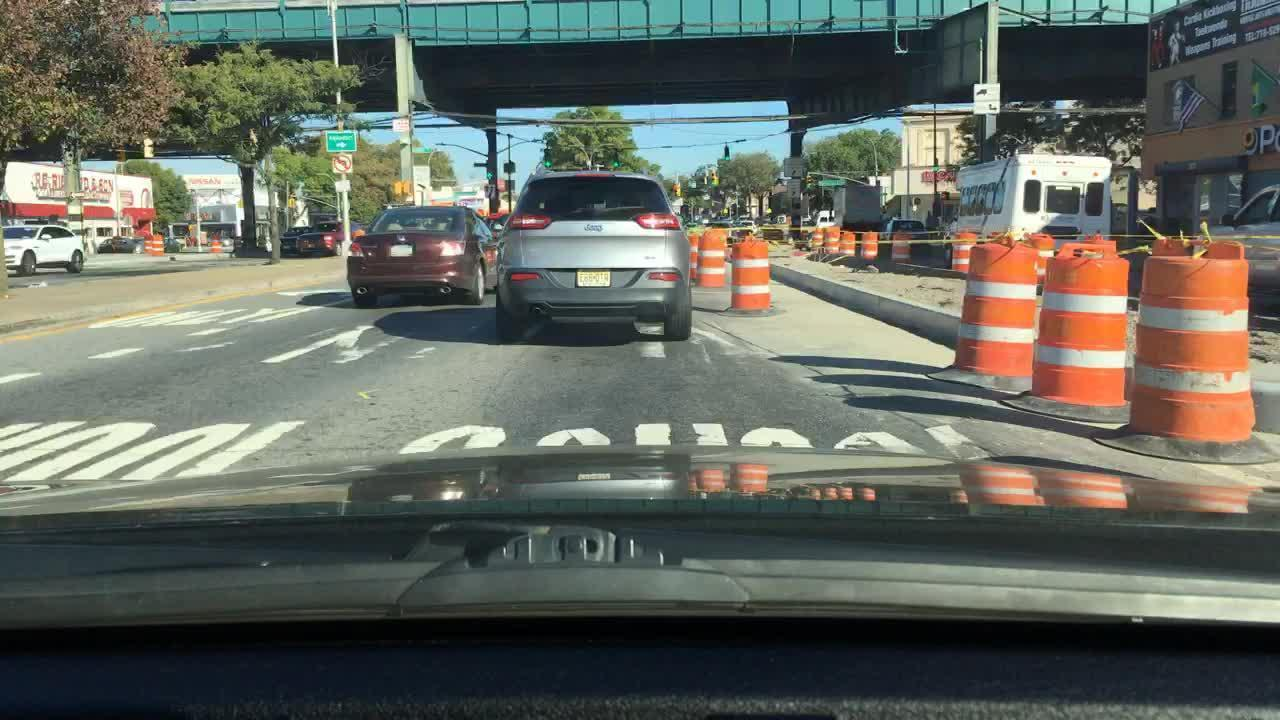jeep: (577, 218, 609, 239)
